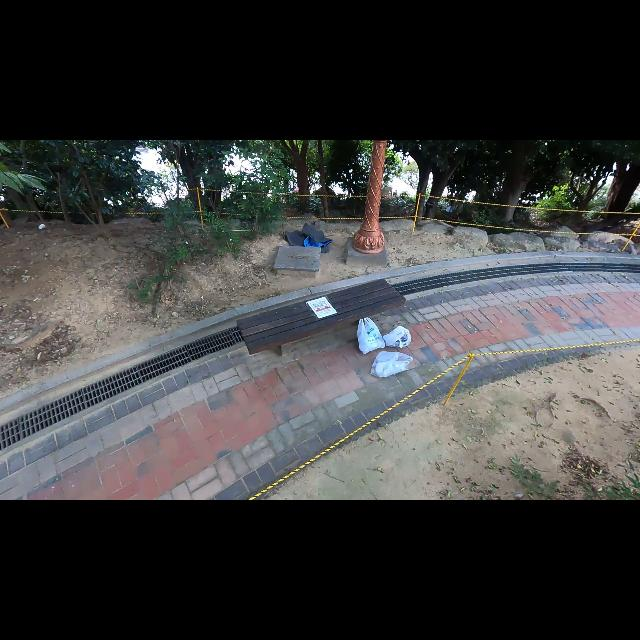trash: (282, 222, 334, 254), (366, 346, 416, 379), (354, 318, 388, 354), (382, 323, 414, 351)
